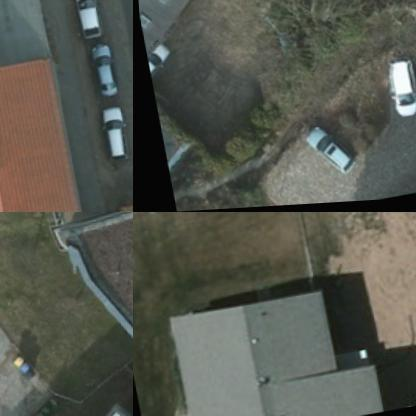car: (302, 124, 354, 183), (96, 108, 132, 170), (382, 60, 415, 123), (88, 49, 121, 102), (74, 0, 107, 47)
